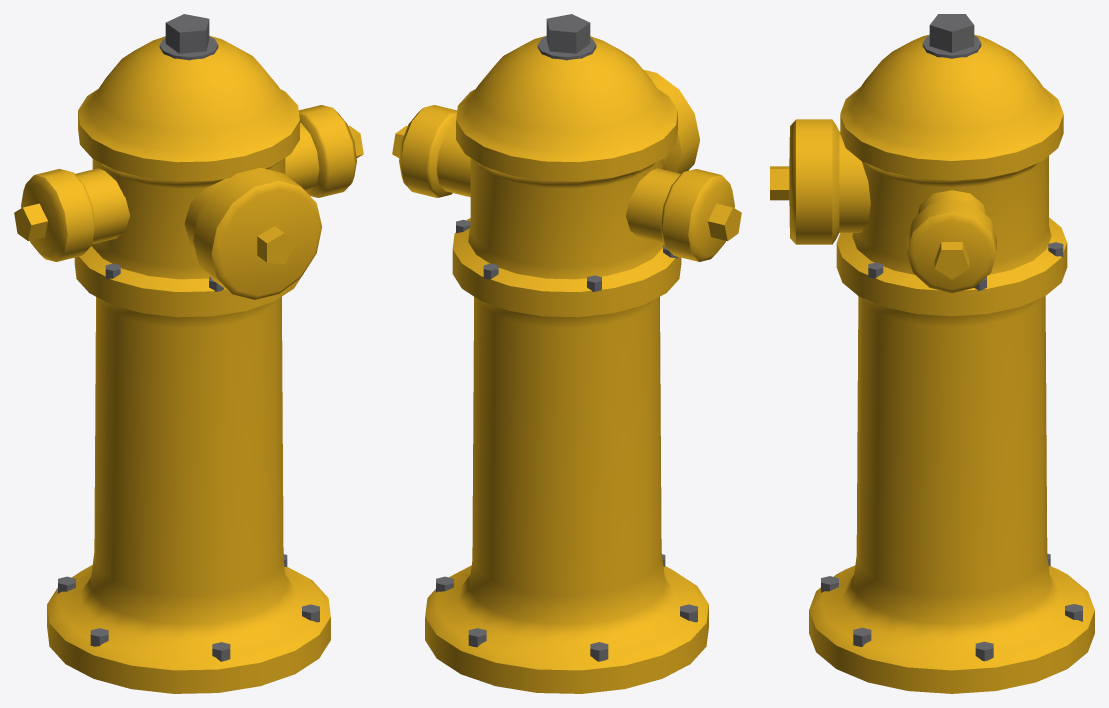
File: hydrant.glb
The picture shows the model from 3 angles, left to right: view 1: azimuth 30°, elevation 25°; view 2: azimuth 150°, elevation 25°; view 3: azimuth 270°, elevation 25°; orthographic projection.
Parts seen in each view (by area): view 1: hydrant; view 2: hydrant; view 3: hydrant.
Boxes of the visible parts, left/top/right/bottom form: hydrant: left=14, top=14, right=363, bottom=693; hydrant: left=392, top=14, right=741, bottom=693; hydrant: left=770, top=14, right=1094, bottom=693.
Bounding box in the file's own units: 0.444 × 0.779 × 0.375.
